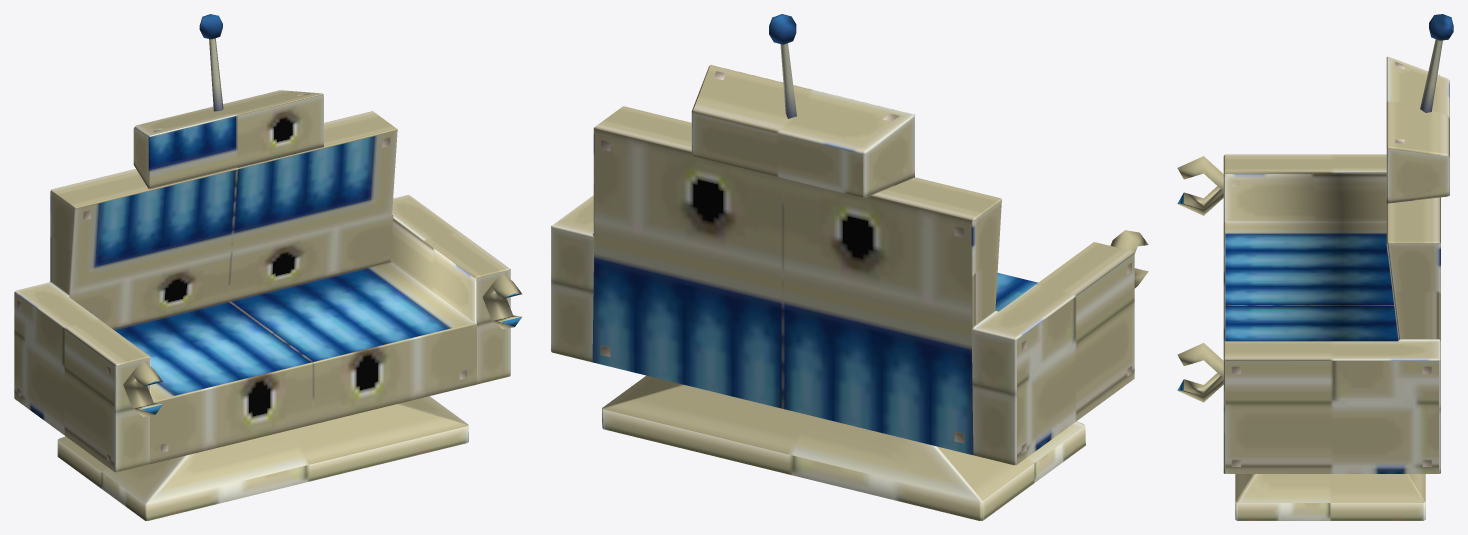
File: rmk_rob_chairL.dae
The picture shows the model from 3 angles, left to right: view 1: azimuth 30°, elevation 25°; view 2: azimuth 150°, elevation 25°; view 3: azimuth 270°, elevation 25°; orthographic projection. The views are drawn at different scales.
Parts seen in each view (by area): view 1: rmk_rob_chairL; view 2: rmk_rob_chairL; view 3: rmk_rob_chairL.
Part boxes in pixels (x1=…): rmk_rob_chairL: x1=14, y1=14, x2=521, y2=520; rmk_rob_chairL: x1=551, y1=14, x2=1148, y2=520; rmk_rob_chairL: x1=1177, y1=14, x2=1453, y2=520.
Bounding box in the file's own units: 54 × 51.48 × 30.53.
Materials: 1 (1 with a texture image).
